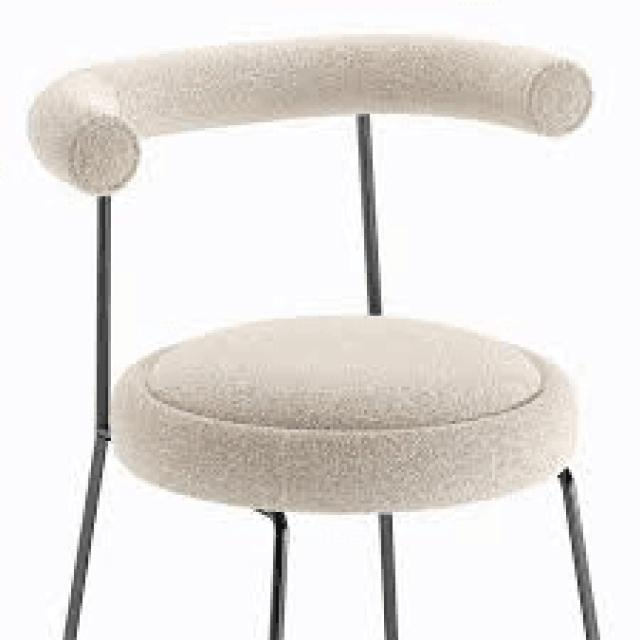chair: (26, 32, 604, 639)
